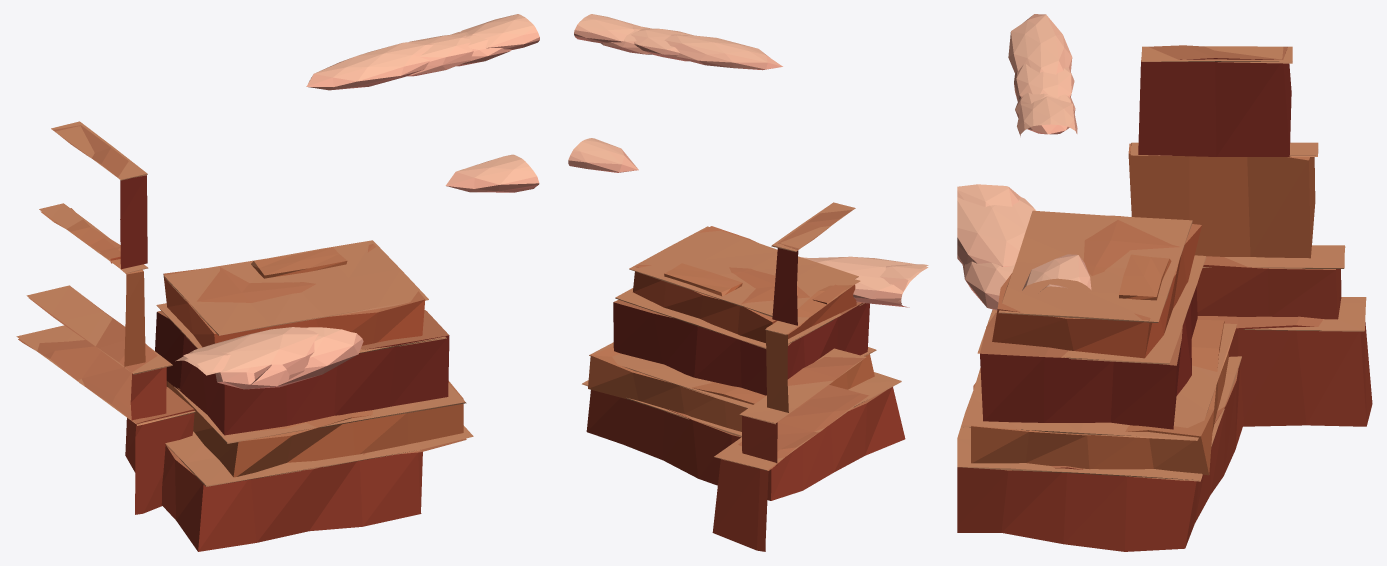
3 renders of one model, left to right at view 1: azimuth 30°, elevation 25°; view 2: azimuth 150°, elevation 25°; view 3: azimuth 270°, elevation 25°, orthographic. The views are drawn at different scales.
Parts seen in each view (by area): view 1: scene.3.0 (×2); view 2: scene.3.0 (×2); view 3: scene.3.0 (×2).
Boxes of the visible parts, box(x1,y1,x2,y2) form: scene.3.0 (×2): box(16, 14, 539, 551); scene.3.0 (×2): box(568, 14, 928, 551); scene.3.0 (×2): box(957, 14, 1372, 551).
Bounding box in the file's own units: 62.5 × 71.76 × 57.61.
